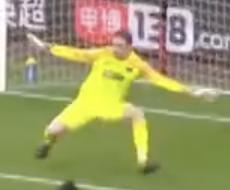goalkeeper: (19, 25, 227, 178)
